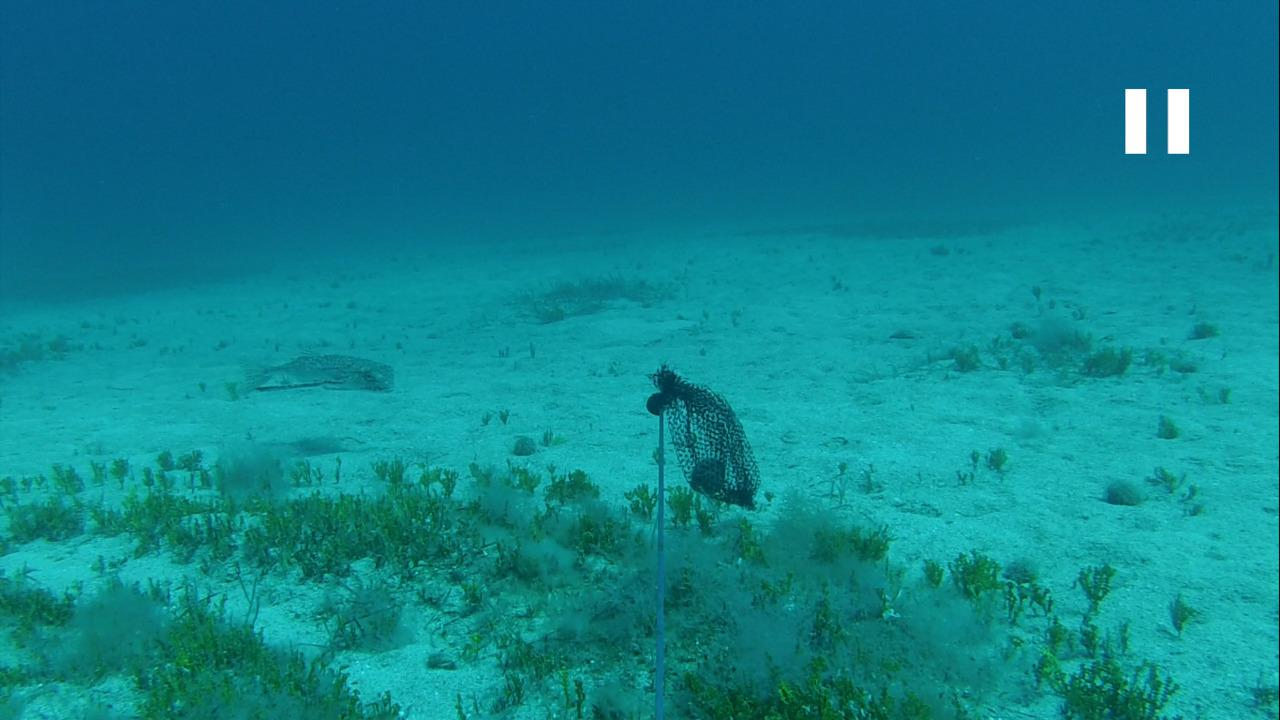dactylopterus: (230, 350, 403, 404)
